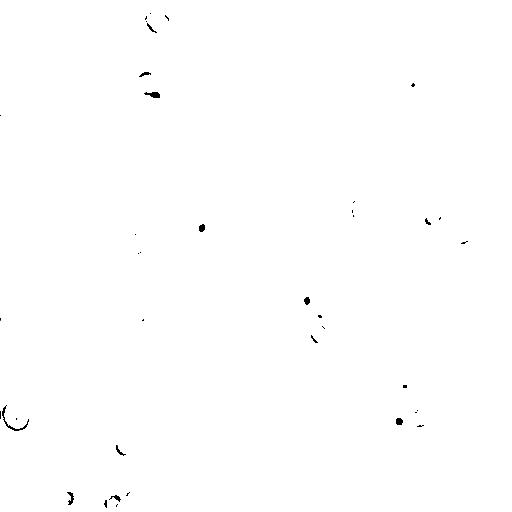micro-algae: (233, 401, 340, 505), (149, 24, 216, 89), (343, 63, 381, 100), (379, 404, 413, 437), (0, 399, 32, 434), (447, 222, 479, 255), (187, 210, 215, 246), (49, 0, 85, 26), (387, 370, 419, 398), (417, 202, 449, 229), (67, 457, 94, 489), (134, 70, 165, 97), (284, 387, 309, 420), (235, 377, 264, 405), (440, 0, 471, 23), (121, 230, 147, 257), (210, 89, 239, 113), (145, 8, 171, 34), (13, 11, 39, 37), (159, 467, 184, 493), (417, 41, 441, 67), (4, 69, 28, 95), (397, 69, 422, 93), (410, 405, 436, 428), (101, 379, 125, 403), (409, 282, 435, 304), (113, 432, 135, 458), (132, 107, 155, 130), (205, 115, 227, 139), (106, 475, 132, 495), (297, 288, 319, 311), (305, 305, 329, 325), (309, 323, 329, 346), (351, 196, 370, 219), (23, 183, 43, 203), (283, 339, 301, 361), (55, 490, 73, 511), (131, 307, 149, 326), (80, 497, 101, 512), (46, 3, 60, 25), (125, 490, 143, 507), (25, 215, 43, 231), (104, 495, 121, 511), (5, 128, 23, 143), (229, 0, 256, 7)
